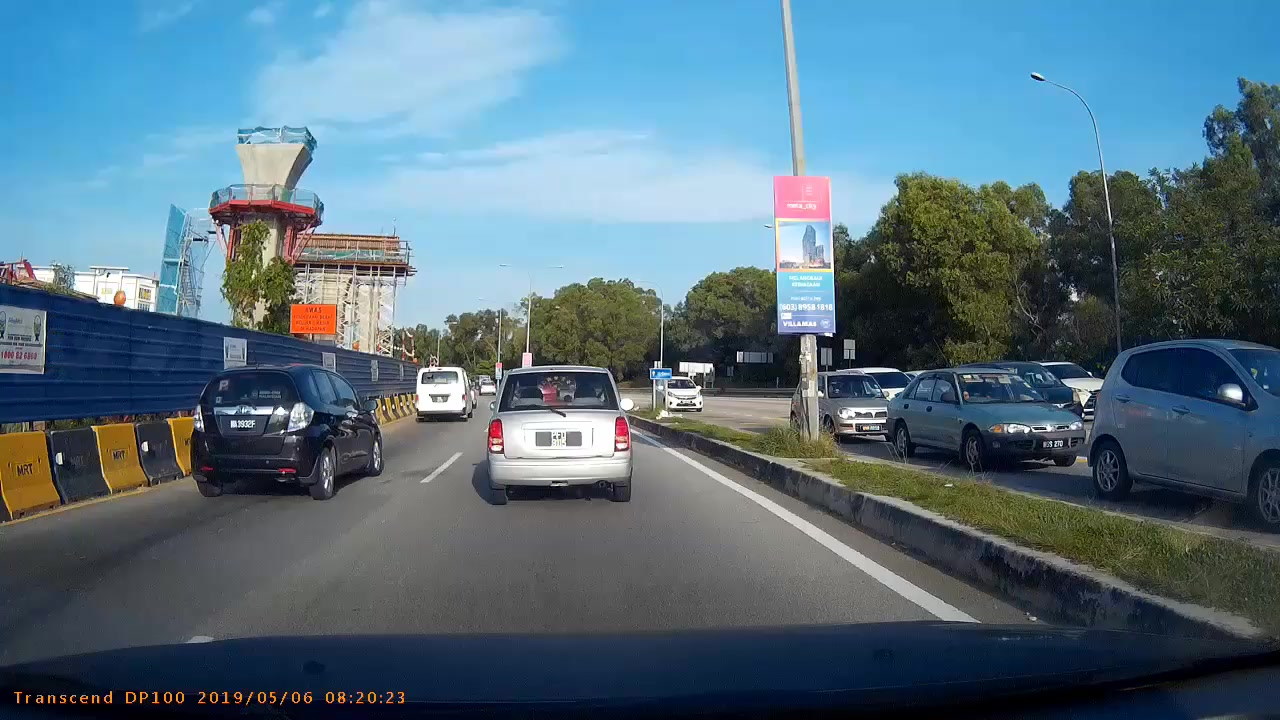license-plate: (229, 419, 256, 429), (550, 432, 567, 446)
